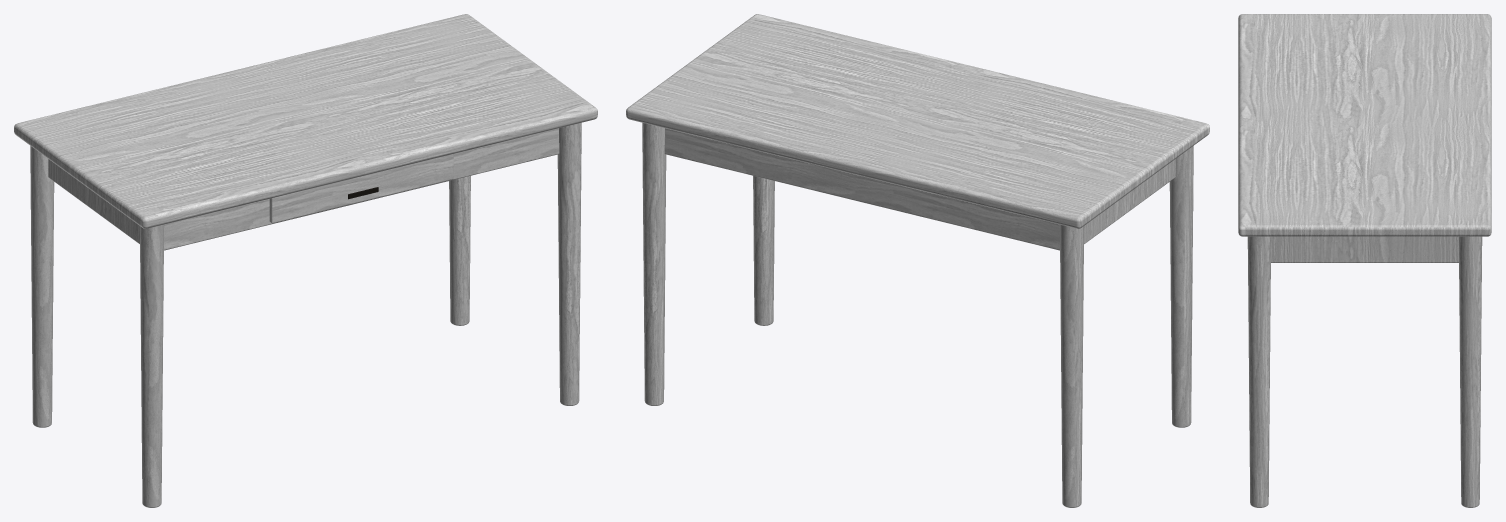
Rendered from desk-1.2m.gltf.
3 renders of one model, left to right at view 1: azimuth 30°, elevation 25°; view 2: azimuth 150°, elevation 25°; view 3: azimuth 270°, elevation 25°, orthographic. The views are drawn at different scales.
Parts seen in each view (by area): view 1: desk; view 2: desk; view 3: desk.
Part boxes in pixels (x1,y1,x2,y2): desk: [14, 14, 597, 507]; desk: [626, 14, 1209, 507]; desk: [1238, 14, 1491, 507].
Bounding box in the file's own units: 1.2 × 0.75 × 0.6.
2 materials, 1 textured.
